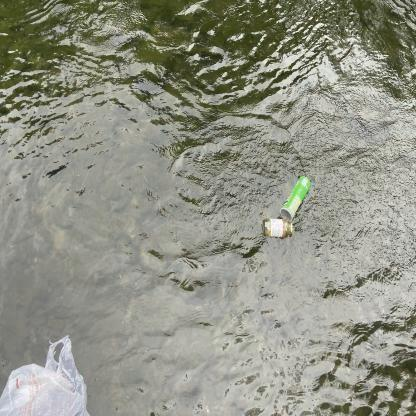Glass: (263, 217, 294, 239)
Metal: (280, 173, 311, 220)
Plastic: (0, 332, 94, 416)
